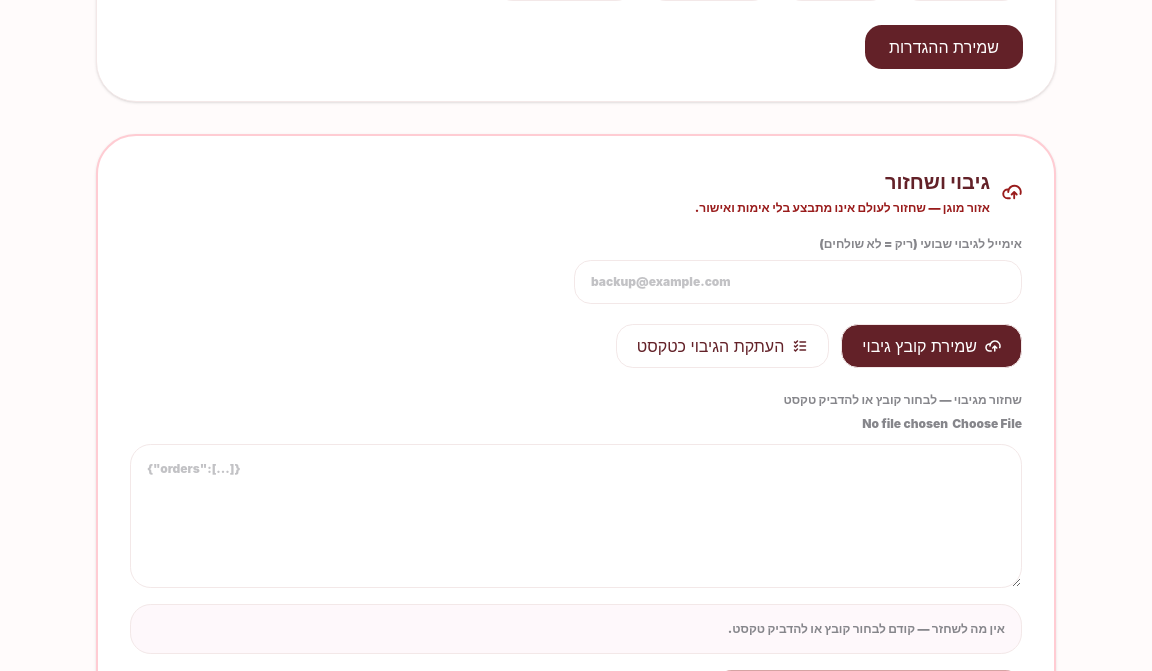
Scenario: SettingsBackupScreen › copies an exact complete JSON export without mutating the store
(page scrolled)
Click the button "העתקת הגיבוי כטקסט". click: (723, 346)
box: [616,324,829,368]
(page scrolled)
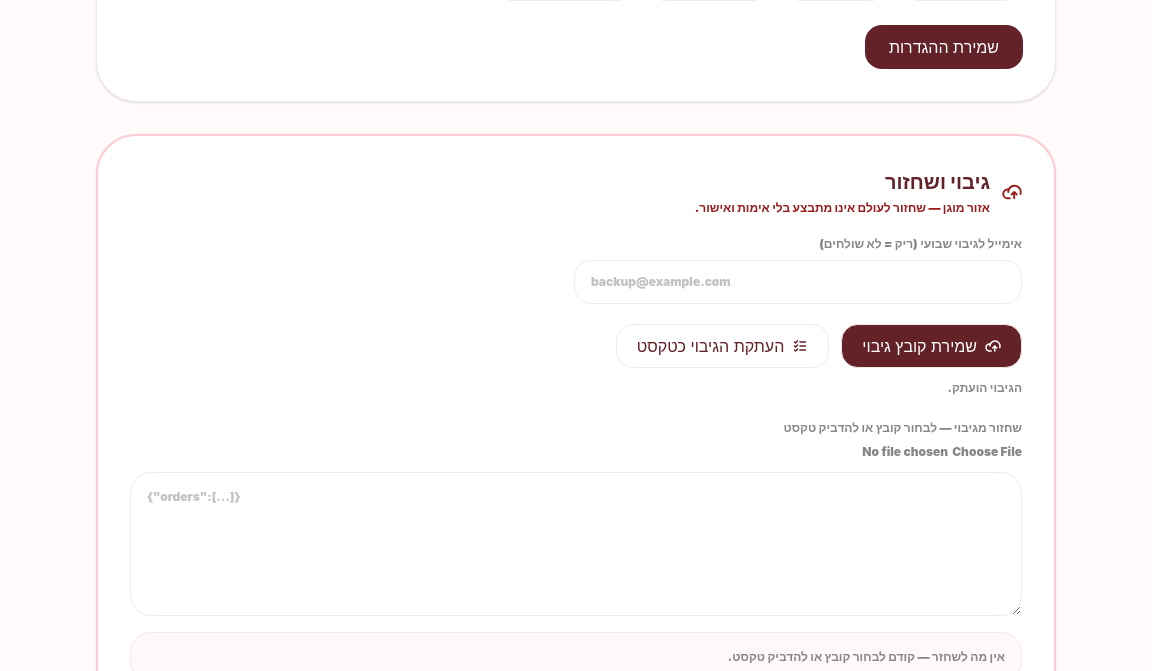
Expected: the text "הגיבוי הועתק." is shown, [948,380,1022,395]
